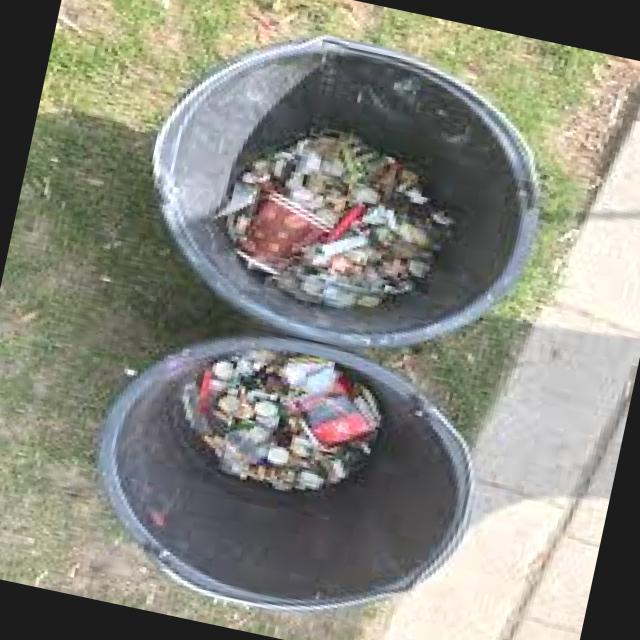garbage: (172, 84, 502, 338), (118, 310, 424, 518)
